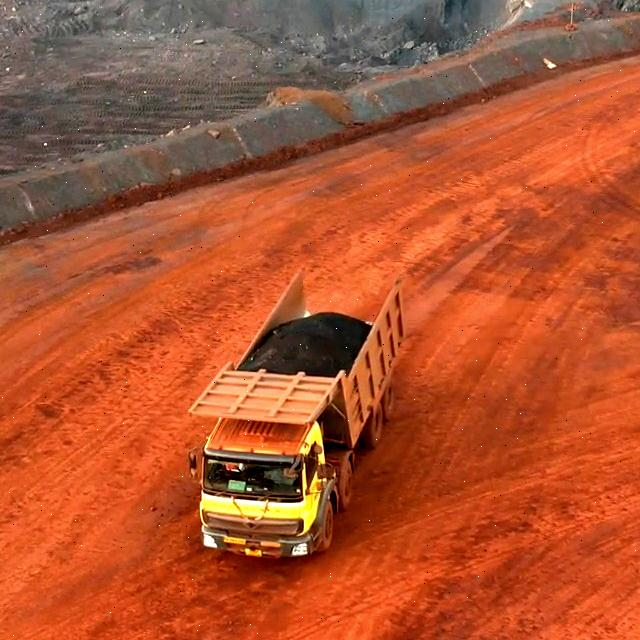Dumper truck: (203, 374, 358, 559)
